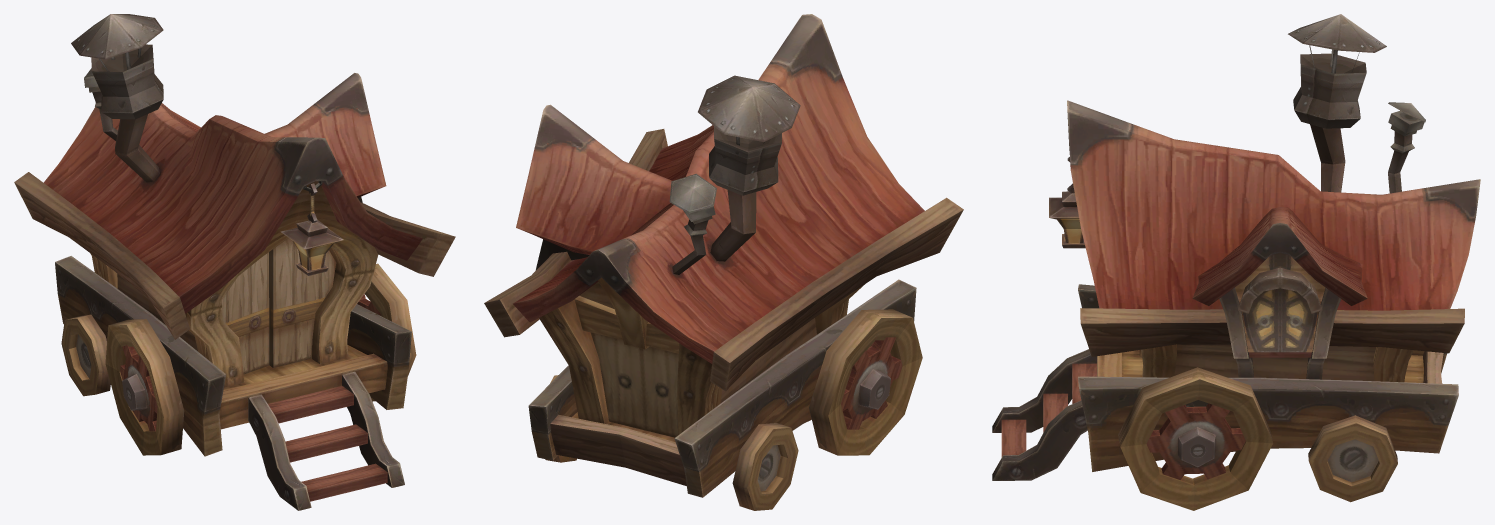
The model's file is Coach002.fbx.
3 renders of one model, left to right at view 1: azimuth 30°, elevation 25°; view 2: azimuth 150°, elevation 25°; view 3: azimuth 270°, elevation 25°, orthographic. The views are drawn at different scales.
Visible parts, largest first — view 1: Coach002; view 2: Coach002; view 3: Coach002.
Boxes of the visible parts, x1,y1,x2,y2 form: Coach002: [14, 14, 455, 510]; Coach002: [484, 14, 963, 510]; Coach002: [992, 14, 1480, 510].
Size of the model in its own units: 5.08 by 6.33 by 6.99.
